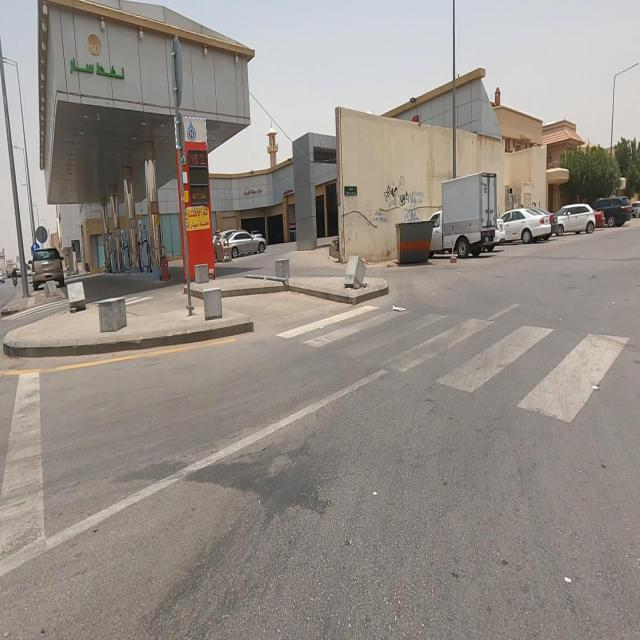Graffiti: (364, 175, 427, 224)
